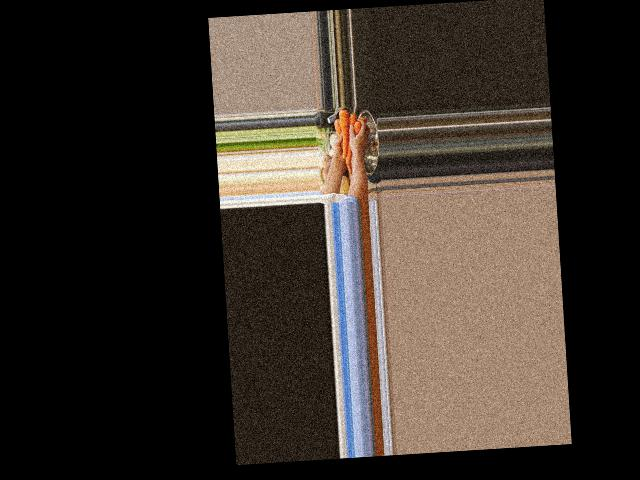carrot: (340, 112, 358, 167)
